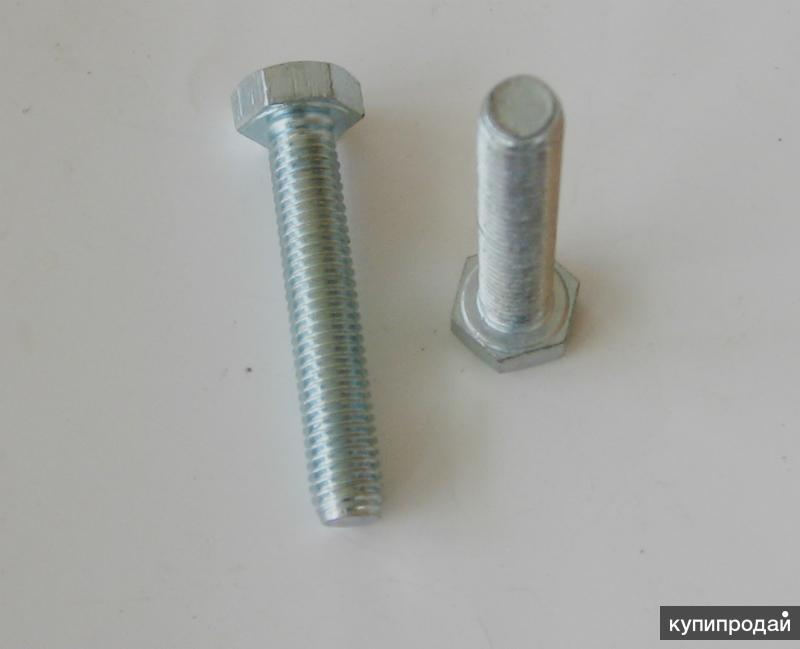screw: (233, 61, 382, 526), (451, 73, 582, 372)
